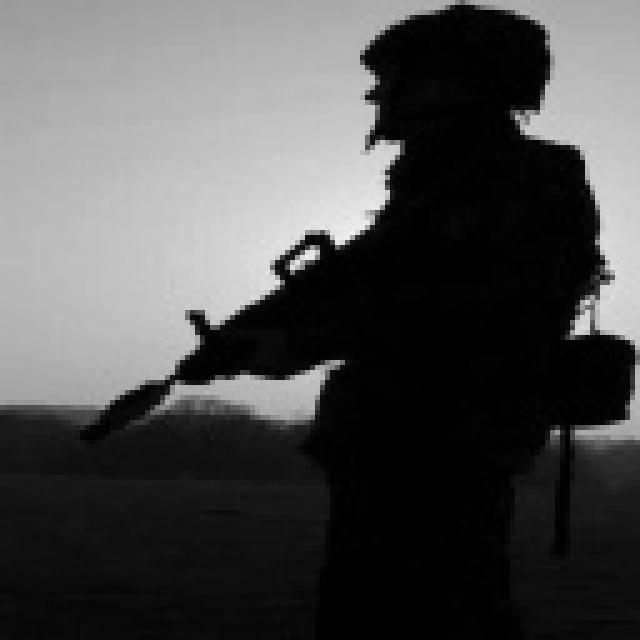Rifle: (61, 197, 433, 479)
